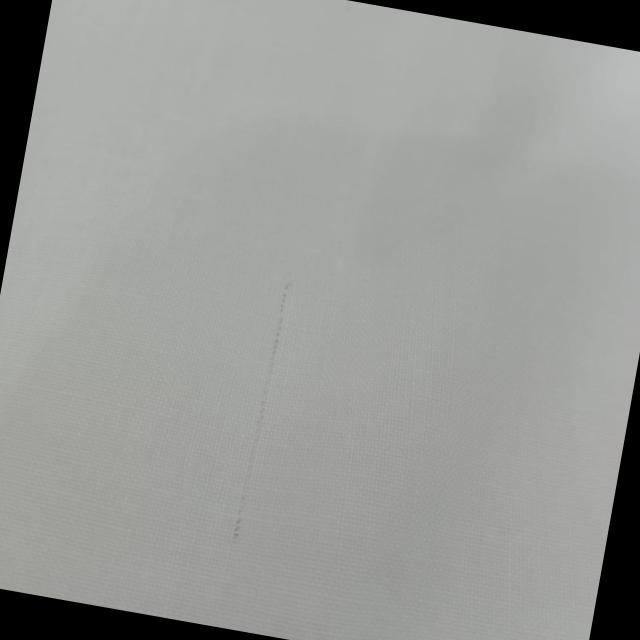contamination: (206, 255, 316, 557)
